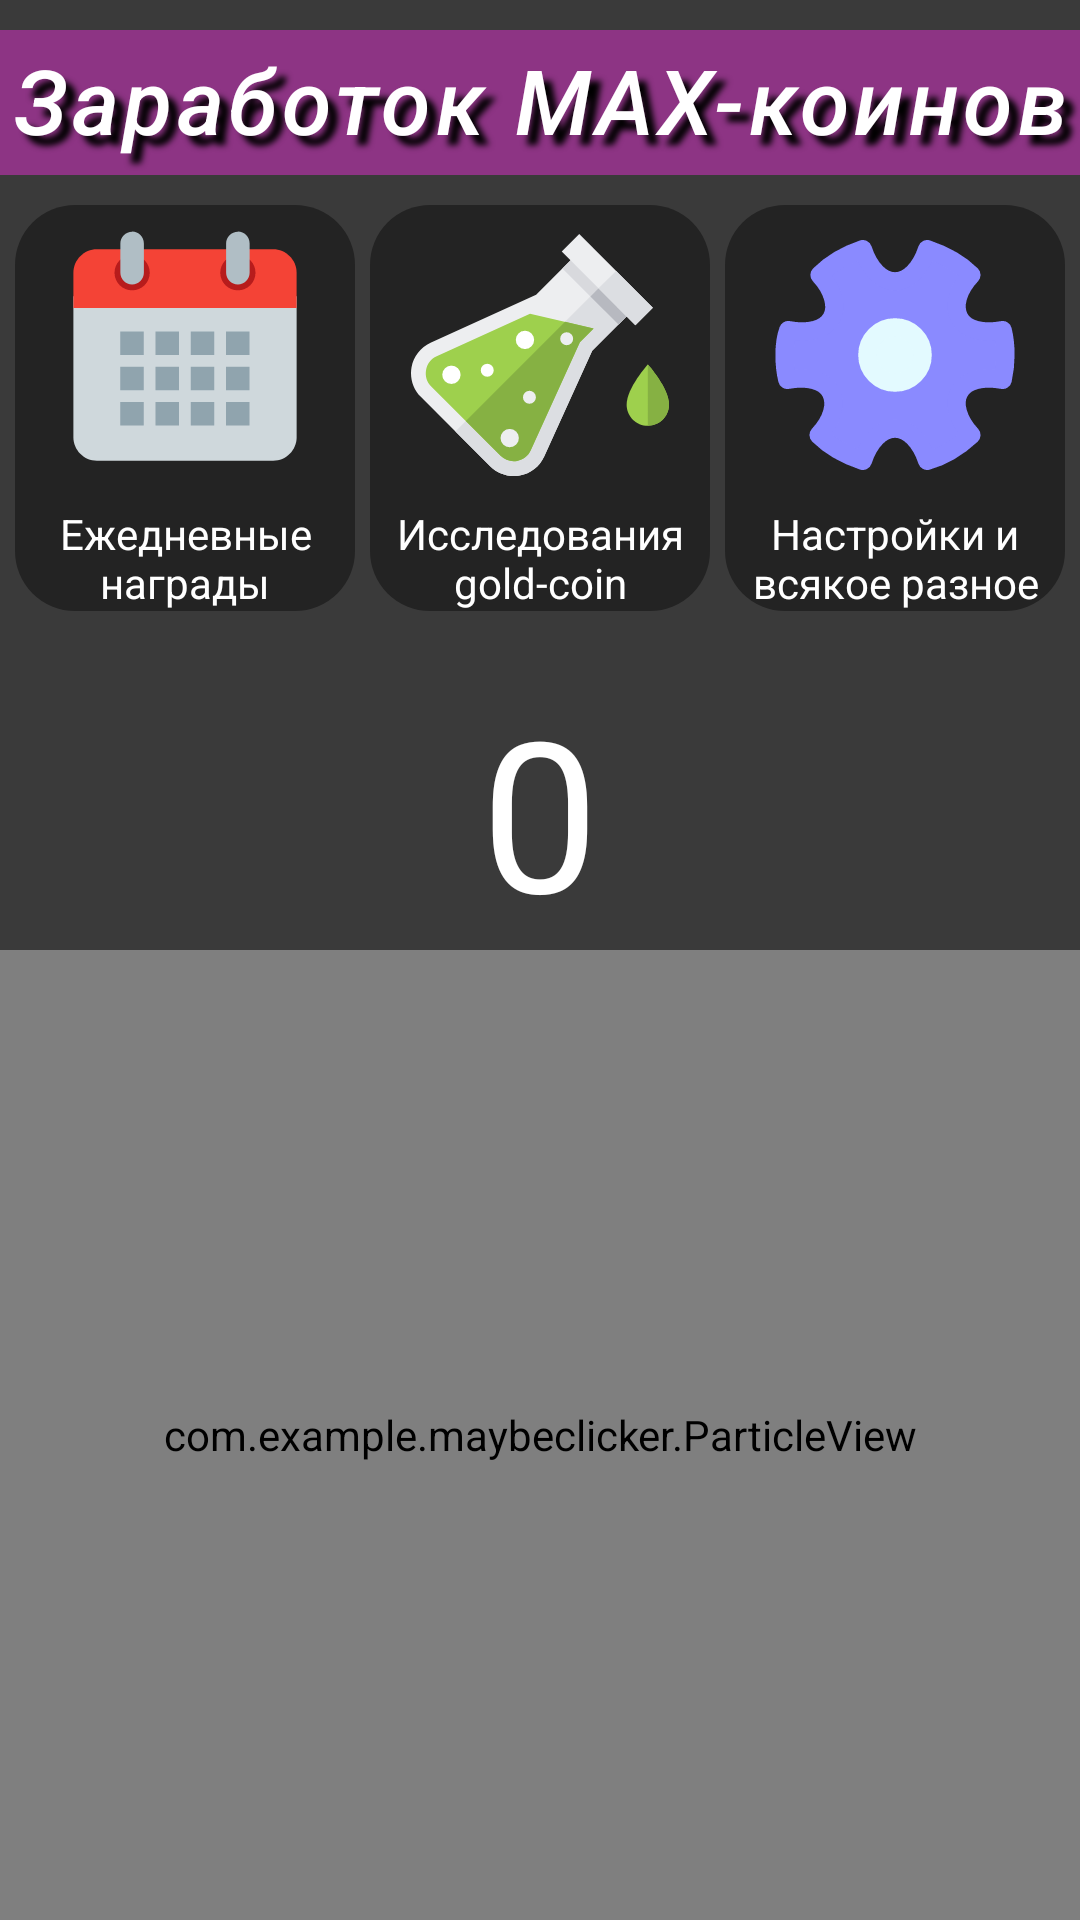

Named icons in this screenshot (1080px×1920px) and their centers, [x,y]:
calendar: [185,346]
flask: [540,355]
